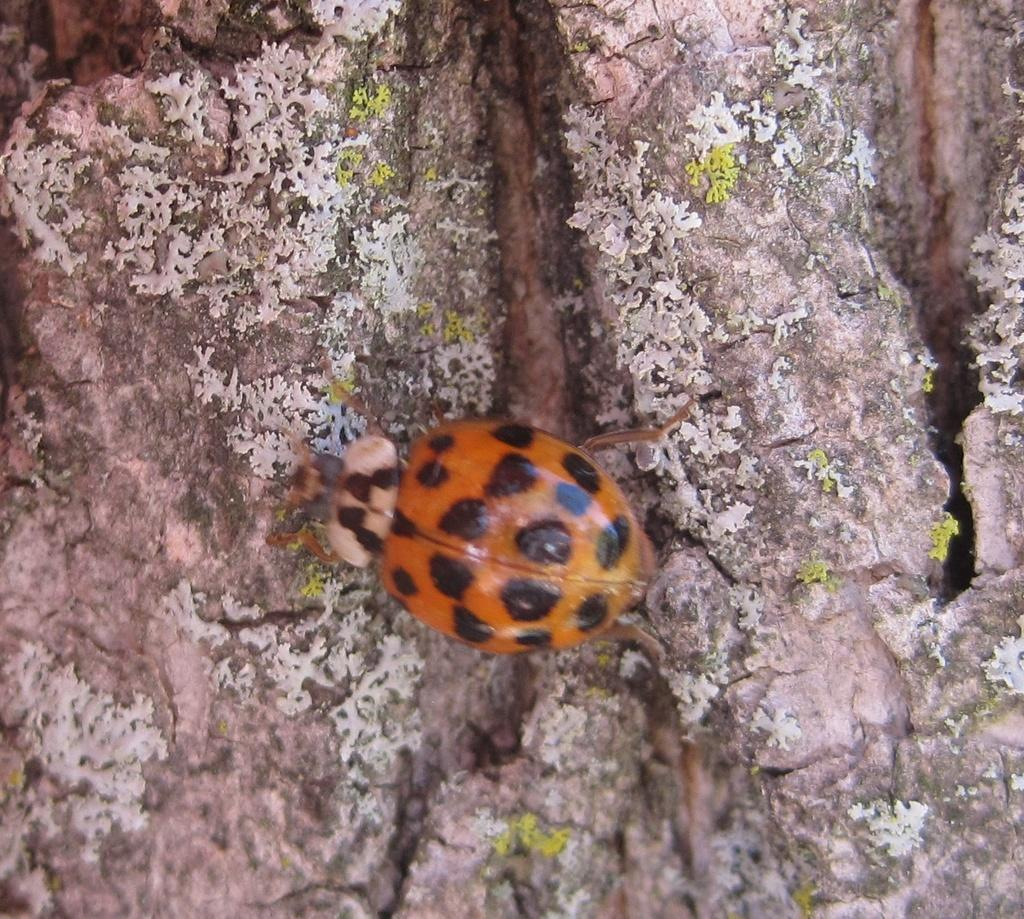ladybug: (264, 394, 724, 659)
